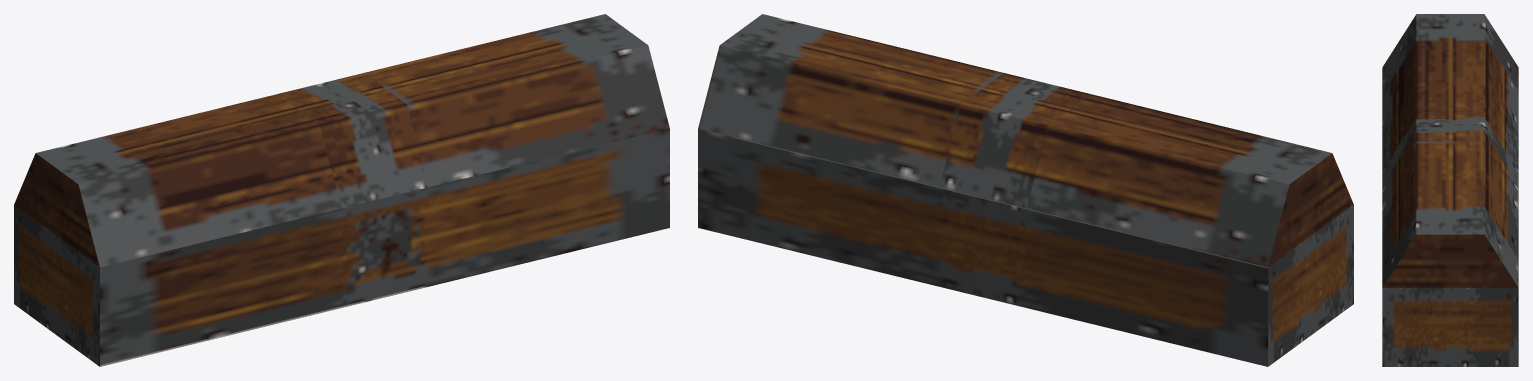
File: SM_Dungeon_Chest_Long.fbx
3 renders of one model, left to right at view 1: azimuth 30°, elevation 25°; view 2: azimuth 150°, elevation 25°; view 3: azimuth 270°, elevation 25°, orthographic. The views are drawn at different scales.
Visible parts, largest first — view 1: SM_Dungeon_Chest.001; view 2: SM_Dungeon_Chest.001; view 3: SM_Dungeon_Chest.001.
Boxes of the visible parts, x1=… form: SM_Dungeon_Chest.001: x1=14, y1=14, x2=669, y2=366; SM_Dungeon_Chest.001: x1=698, y1=14, x2=1353, y2=366; SM_Dungeon_Chest.001: x1=1382, y1=14, x2=1518, y2=366.
Size of the model in its own units: 205 by 57.35 by 53.5.
